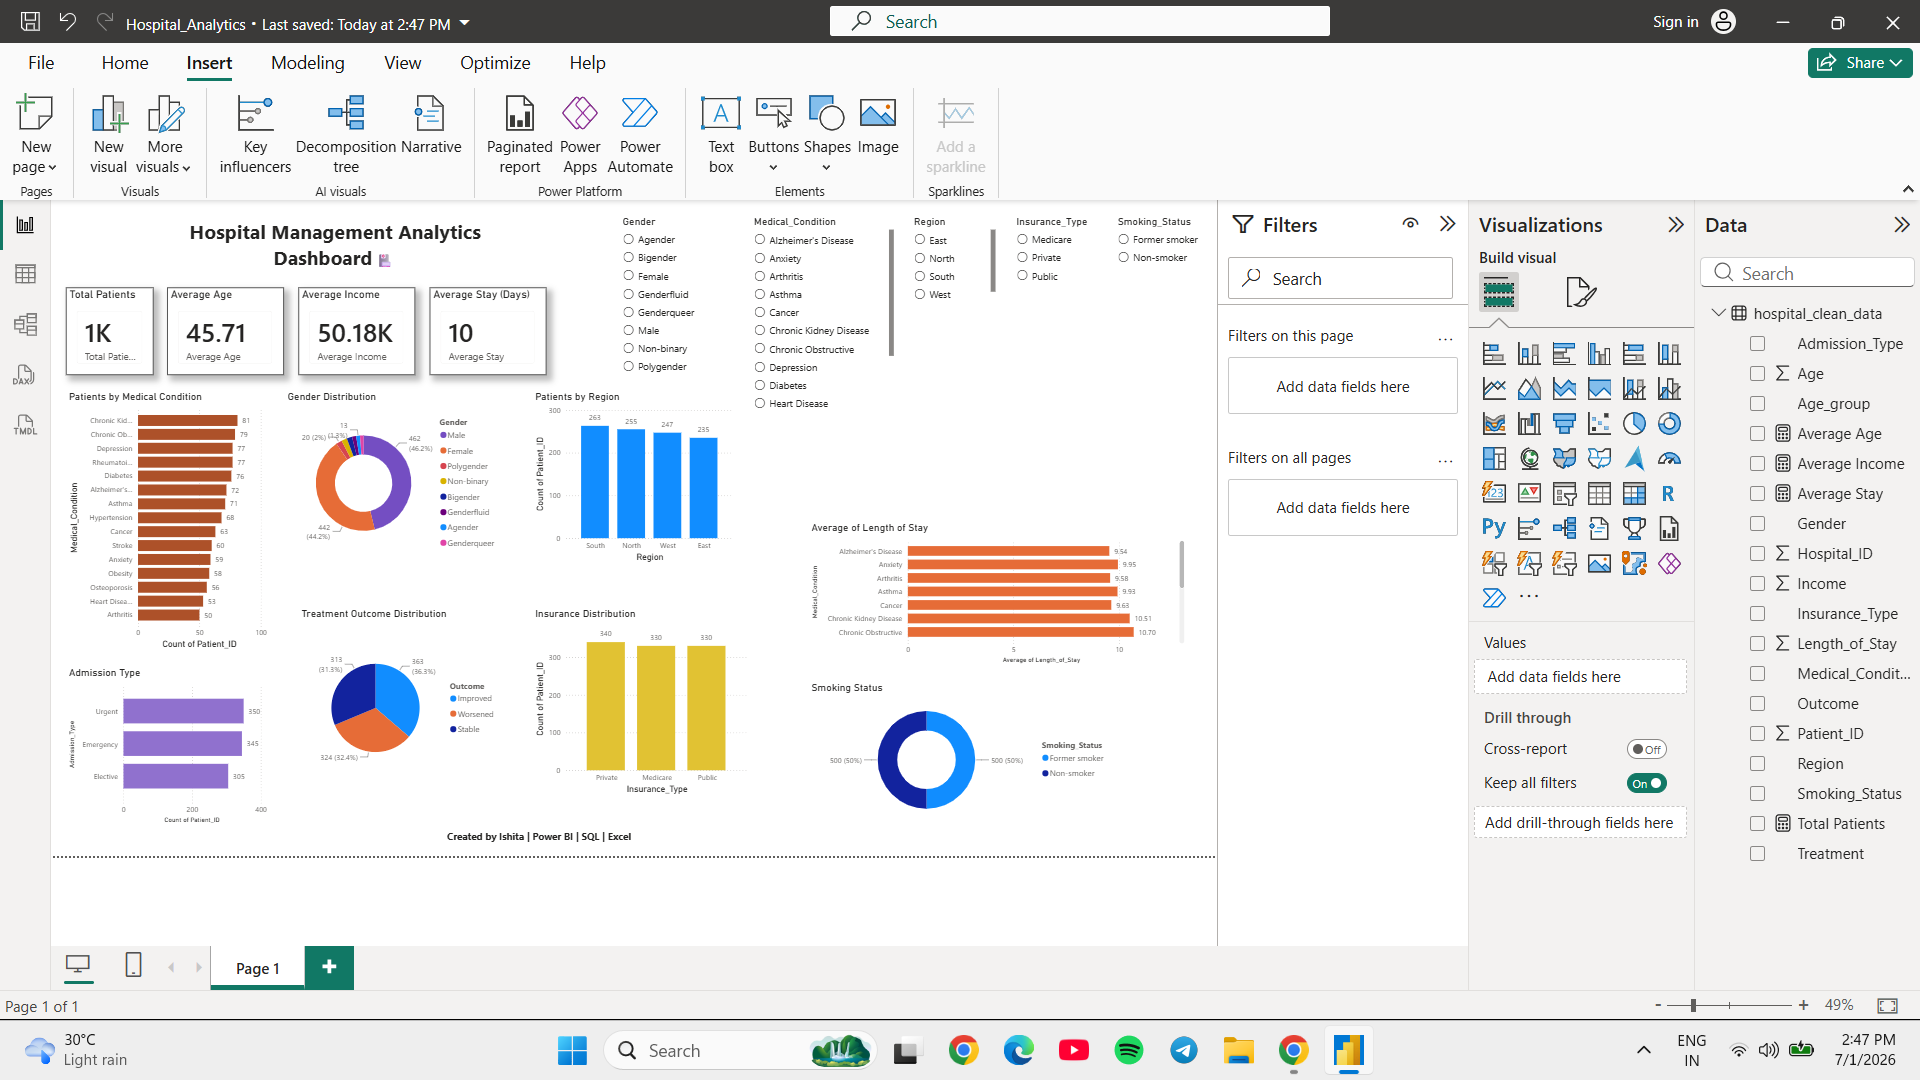

The page's visual inventory and layout, read from the dashboard file:
{"tool":"powerbi","page":{"name":"Page 1","canvas":[1920,1080],"ordinal":0},"visuals":[{"type":"cardVisual","title":"Average Age","fields":{"Data":["hospital_clean_data.Average Age"]},"box":[192,144,192,144],"z":0},{"type":"cardVisual","title":"Average Income","fields":{"Data":["hospital_clean_data.Average Income"]},"box":[408,144,192,144],"z":1000},{"type":"cardVisual","title":"Average Stay (Days)","fields":{"Data":["hospital_clean_data.Average Stay"]},"box":[624,144,192,144],"z":2000},{"type":"cardVisual","title":"Total Patients","fields":{"Data":["hospital_clean_data.Total Patients"]},"box":[24,144,144,144],"z":3000},{"type":"clusteredBarChart","title":"Patients by Medical Condition","fields":{"Category":["hospital_clean_data.Medical_Condition"],"Y":["CountNonNull(hospital_clean_data.Patient_ID)"]},"box":[24,312,336,432],"z":4000},{"type":"donutChart","title":" Gender Distribution","fields":{"Category":["hospital_clean_data.Gender"],"Y":["CountNonNull(hospital_clean_data.Patient_ID)"]},"box":[384,312,360,288],"z":5000},{"type":"clusteredColumnChart","title":"Patients by Region","fields":{"Category":["hospital_clean_data.Region"],"Y":["CountNonNull(hospital_clean_data.Patient_ID)"]},"box":[792,312,336,288],"z":6000},{"type":"pieChart","title":"Treatment Outcome Distribution","fields":{"Category":["hospital_clean_data.Outcome"],"Y":["CountNonNull(hospital_clean_data.Patient_ID)"]},"box":[408,672,336,312],"z":7000},{"type":"clusteredBarChart","title":"Average of Length of Stay ","fields":{"Category":["hospital_clean_data.Medical_Condition"],"Y":["Avg(hospital_clean_data.Length_of_Stay)"]},"box":[1248,528,624,240],"z":8000},{"type":"columnChart","title":" Insurance Distribution","fields":{"Category":["hospital_clean_data.Insurance_Type"],"Y":["CountNonNull(hospital_clean_data.Patient_ID)"]},"box":[792,672,360,312],"z":9000},{"type":"donutChart","title":"Smoking Status","fields":{"Category":["hospital_clean_data.Smoking_Status"],"Y":["CountNonNull(hospital_clean_data.Patient_ID)"]},"box":[1248,792,504,240],"z":10000},{"type":"barChart","title":" Admission Type","fields":{"Category":["hospital_clean_data.Admission_Type"],"Y":["CountNonNull(hospital_clean_data.Patient_ID)"]},"box":[24,768,336,264],"z":11000},{"type":"listSlicer","fields":{"Values":["hospital_clean_data.Gender"]},"box":[936,24,216,288],"z":12000},{"type":"listSlicer","fields":{"Values":["hospital_clean_data.Region"]},"box":[1416,24,144,144],"z":13000},{"type":"listSlicer","fields":{"Values":["hospital_clean_data.Medical_Condition"]},"box":[1152,24,240,336],"z":14000},{"type":"listSlicer","fields":{"Values":["hospital_clean_data.Insurance_Type"]},"box":[1584,24,144,168],"z":15000},{"type":"listSlicer","fields":{"Values":["hospital_clean_data.Smoking_Status"]},"box":[1752,24,144,144],"z":16000},{"type":"textbox","box":[144,24,648,96],"z":18000},{"type":"textbox","box":[480,1032,648,48],"z":18001}]}

Visuals, with their boxes on the page's 1920x1080 design canvas (x1, y1, x2, y2). These are canvas units, not pixel positions in the 1920x1080 screenshot, which may show the page scaled, cropped or inside an application window:
"Average Age" cardVisual: detection(192, 144, 384, 288)
"Average Income" cardVisual: detection(408, 144, 600, 288)
"Average Stay (Days)" cardVisual: detection(624, 144, 816, 288)
"Total Patients" cardVisual: detection(24, 144, 168, 288)
"Patients by Medical Condition" clusteredBarChart: detection(24, 312, 360, 744)
" Gender Distribution" donutChart: detection(384, 312, 744, 600)
"Patients by Region" clusteredColumnChart: detection(792, 312, 1128, 600)
"Treatment Outcome Distribution" pieChart: detection(408, 672, 744, 984)
"Average of Length of Stay " clusteredBarChart: detection(1248, 528, 1872, 768)
" Insurance Distribution" columnChart: detection(792, 672, 1152, 984)
"Smoking Status" donutChart: detection(1248, 792, 1752, 1032)
" Admission Type" barChart: detection(24, 768, 360, 1032)
listSlicer - hospital_clean_data.Gender: detection(936, 24, 1152, 312)
listSlicer - hospital_clean_data.Region: detection(1416, 24, 1560, 168)
listSlicer - hospital_clean_data.Medical_Condition: detection(1152, 24, 1392, 360)
listSlicer - hospital_clean_data.Insurance_Type: detection(1584, 24, 1728, 192)
listSlicer - hospital_clean_data.Smoking_Status: detection(1752, 24, 1896, 168)
textbox: detection(144, 24, 792, 120)
textbox: detection(480, 1032, 1128, 1080)
